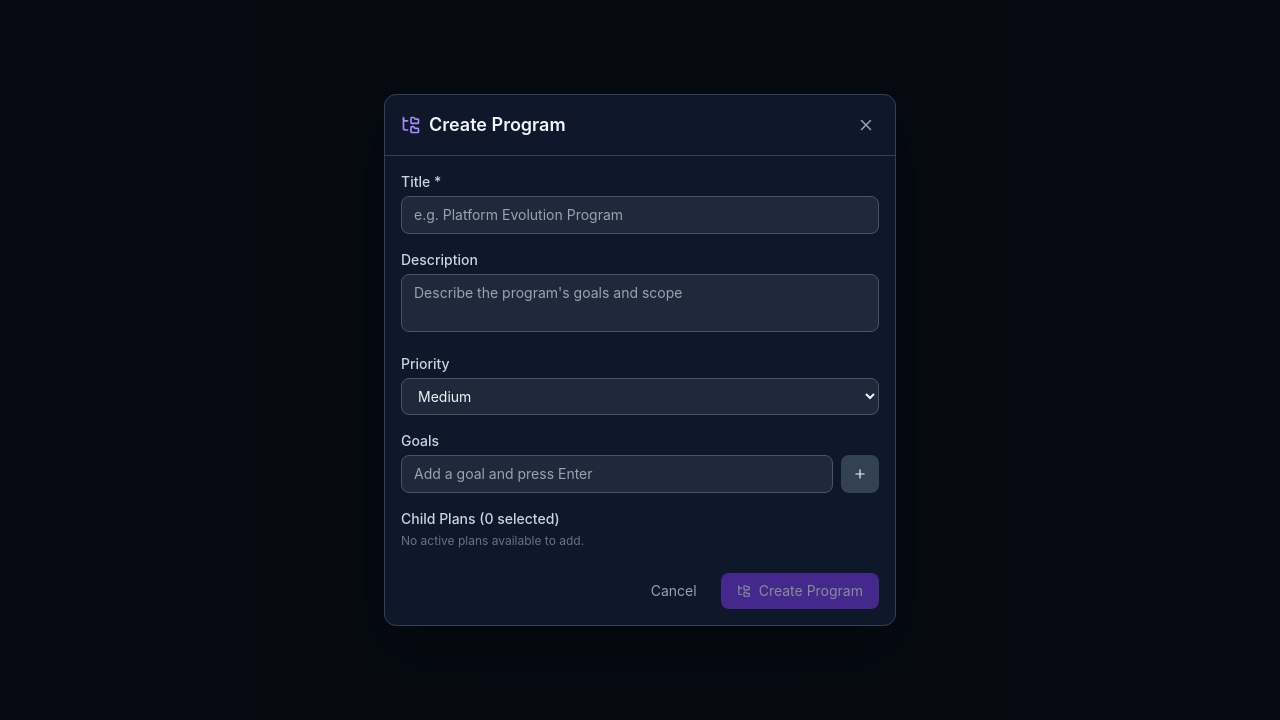
Test case: ProgramCreateForm › goal management › removes a goal when × is clicked
Type "Remove Me" into the field with placeholder "Add a goal and press Enter".
click(617, 474); type("Remove Me")  # box x1=401 y1=455 x2=833 y2=493
Then press Enter
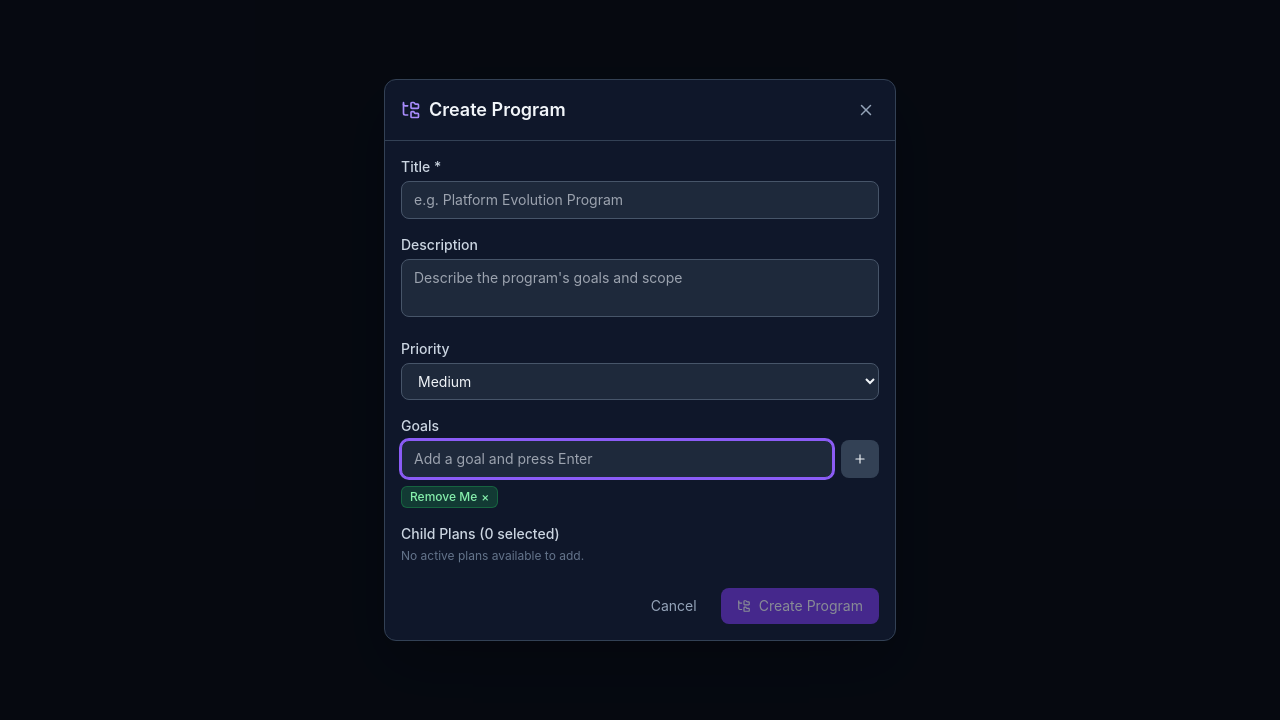
Result: the text "Remove Me" is shown at x1=410 y1=489 x2=477 y2=504
Note: Click the × button inside the badge
Click the button "×".
click(485, 497)  # box x1=481 y1=489 x2=489 y2=505
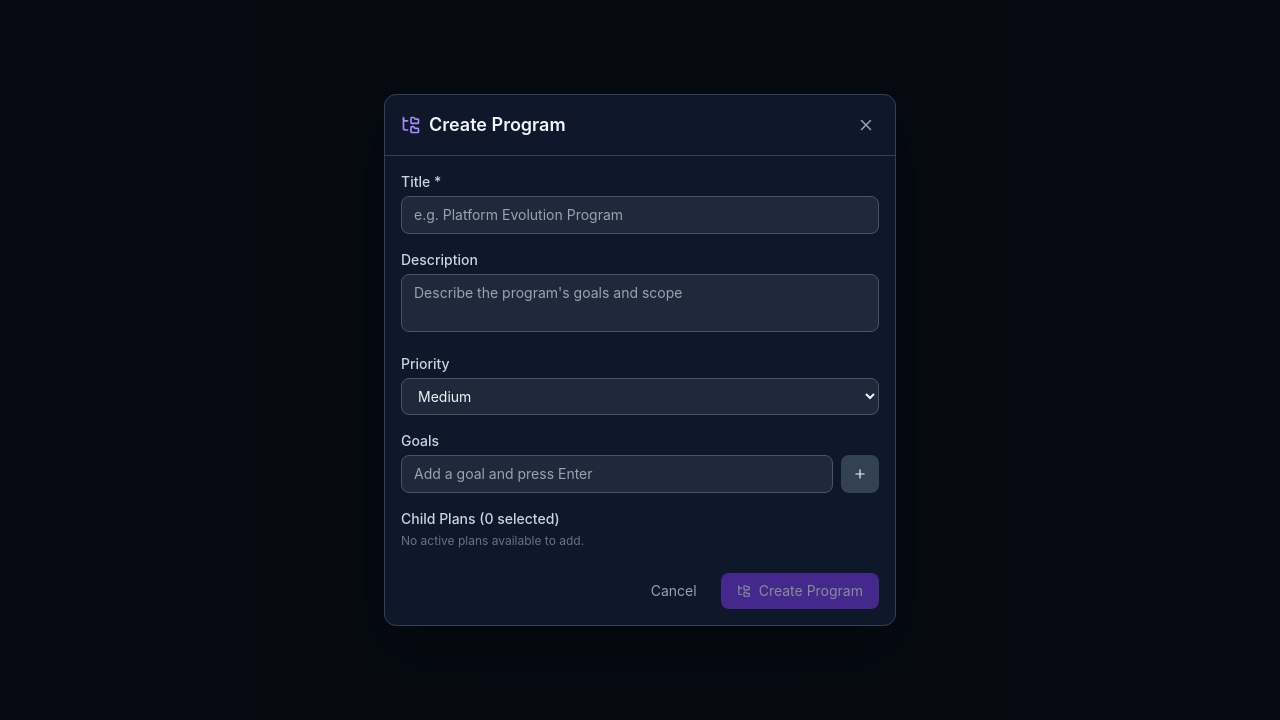
Result: the text "Remove Me" is gone
